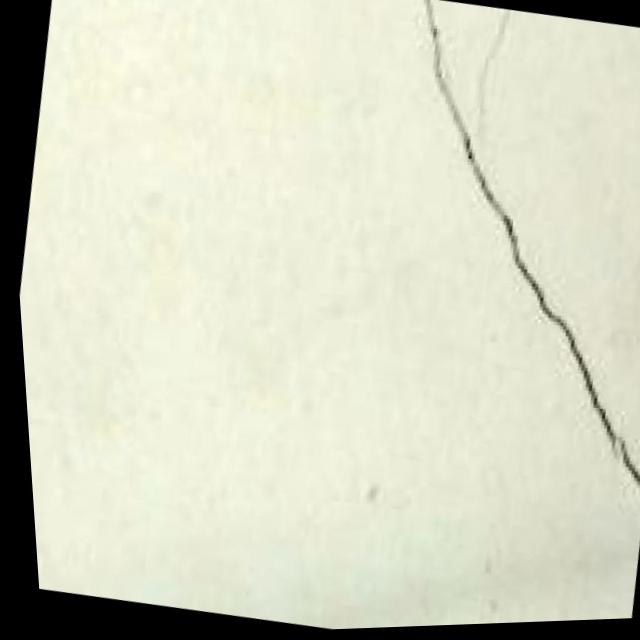Crack: (304, 0, 640, 522)
